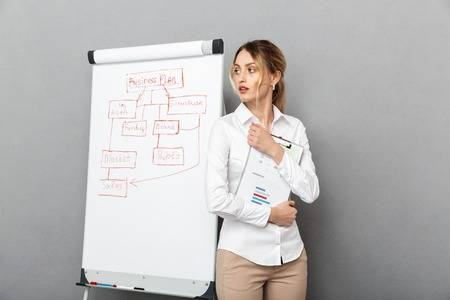C_shirt: (206, 102, 321, 267)
